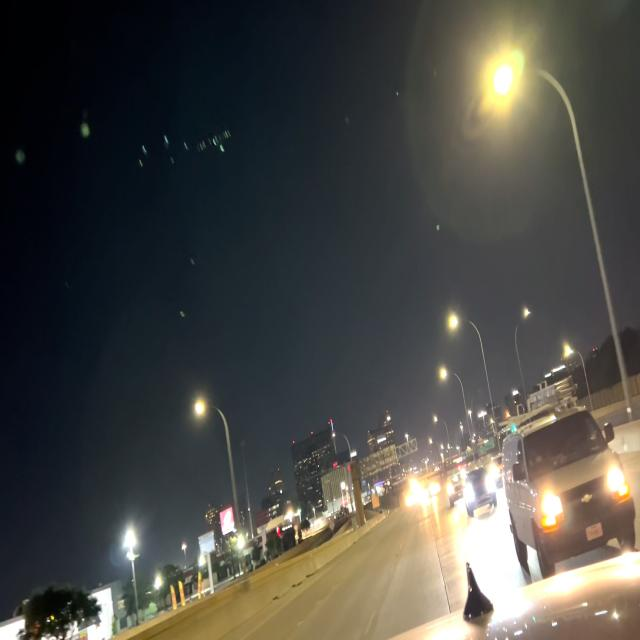back-of-sign: (361, 444, 400, 480)
